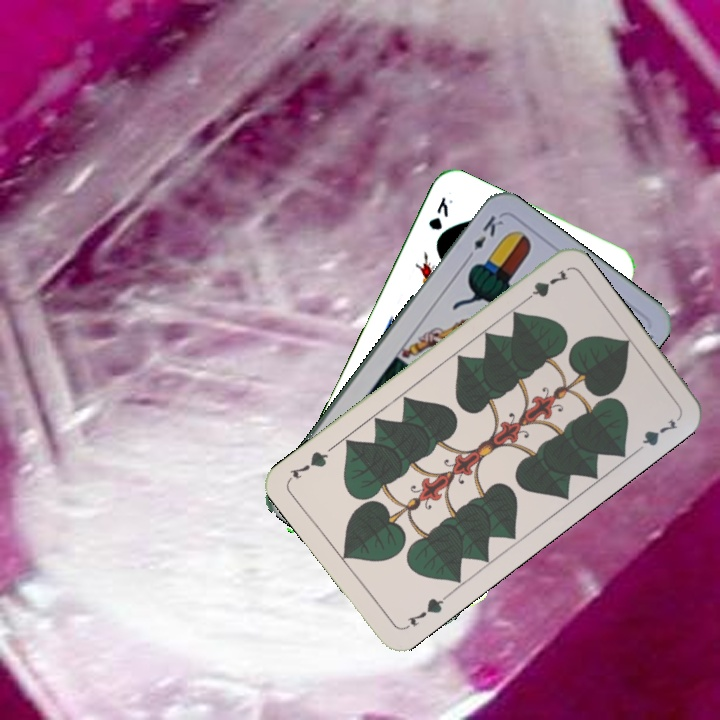EK: (461, 210, 506, 264)
G7: (517, 265, 572, 307), (401, 591, 451, 632)
GK: (424, 192, 456, 233)
